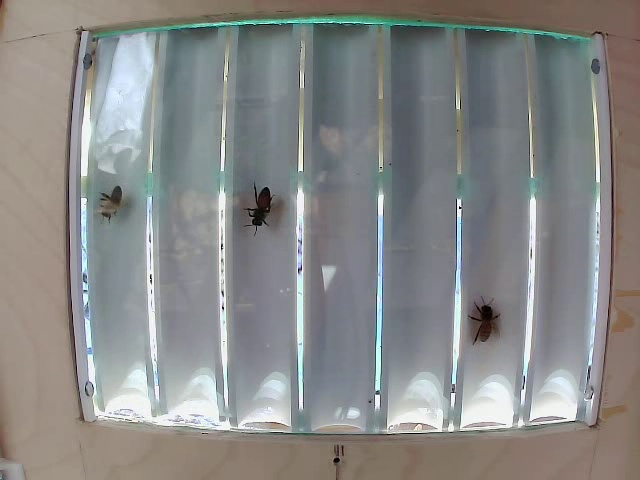bee: (470, 290, 507, 350), (237, 181, 276, 235), (83, 186, 125, 227)
